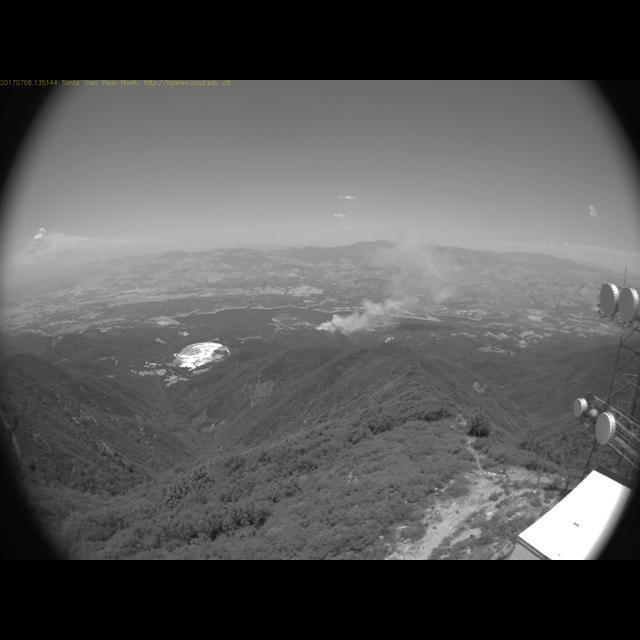Smoke: (304, 234, 473, 340)
